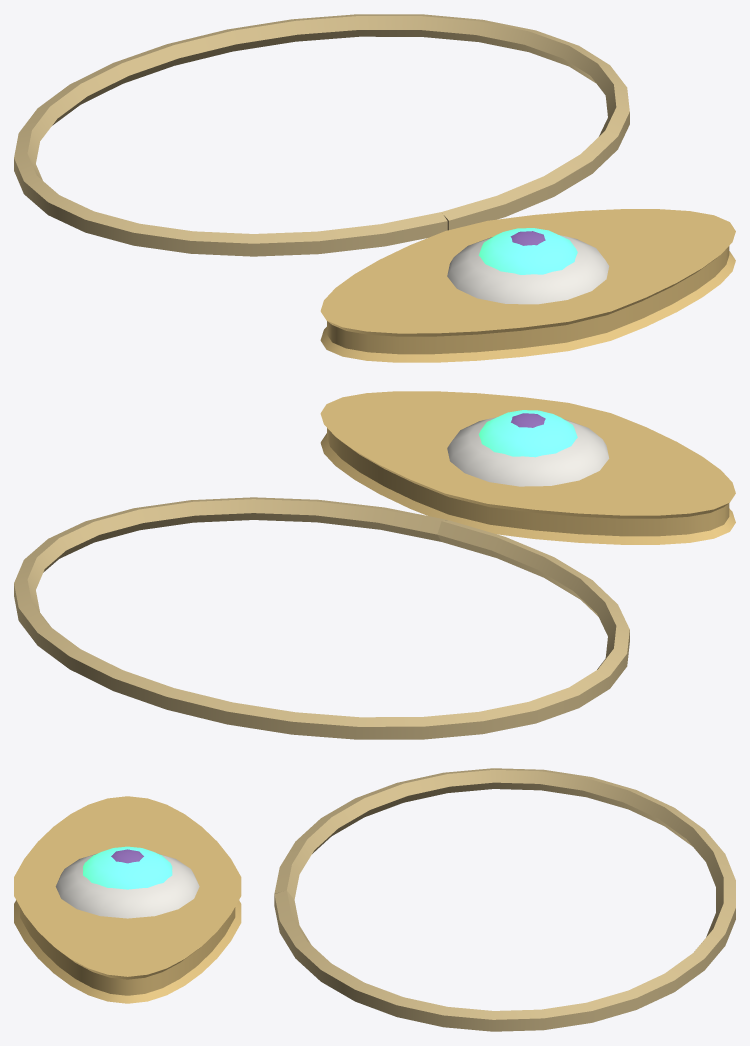
The model's file is watchers_eye.glb.
The picture shows the model from 3 angles, top to bottom: view 1: azimuth 30°, elevation 25°; view 2: azimuth 150°, elevation 25°; view 3: azimuth 270°, elevation 25°; orthographic projection. The views are drawn at different scales.
Parts seen in each view (by area): view 1: watchers_eye; view 2: watchers_eye; view 3: watchers_eye.
Part boxes in pixels (x1=…): watchers_eye: x1=14, y1=14, x2=735, y2=362; watchers_eye: x1=14, y1=391, x2=735, y2=739; watchers_eye: x1=14, y1=768, x2=735, y2=1031.
Bounding box in the file's own units: 0.0803 × 0.00915 × 0.0974.
